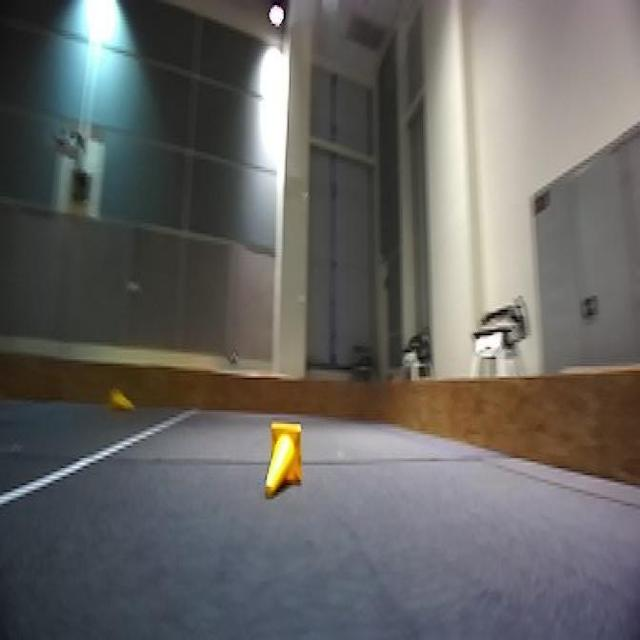frc_cone: (264, 422, 302, 501), (106, 383, 135, 415)
